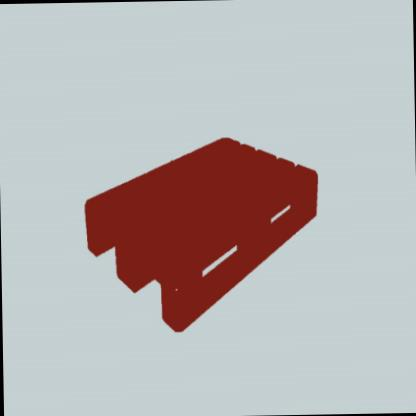BoxFace: (82, 132, 321, 339)
